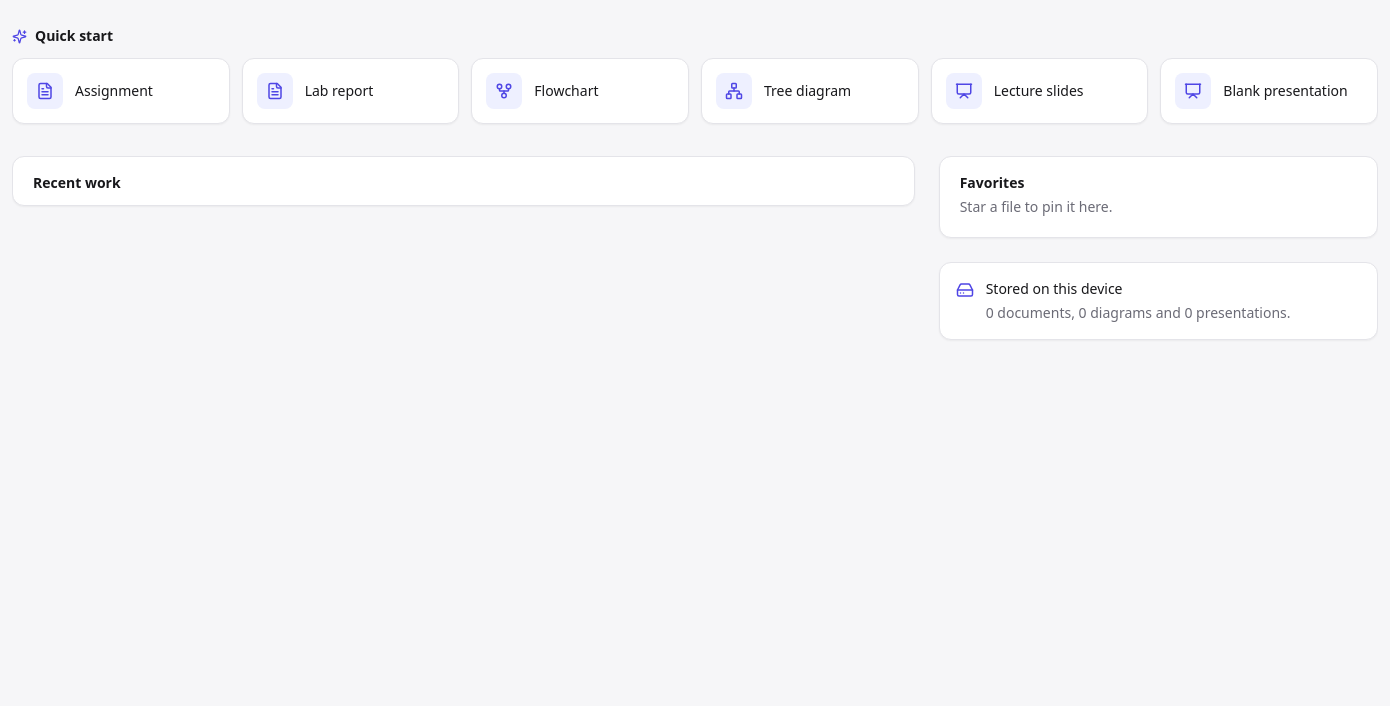
Test: Dashboard with presentations › the quick start entry creates a presentation
Click the button "Blank presentation".
click(1269, 91)  # box [1160,58,1378,124]
(page scrolled)
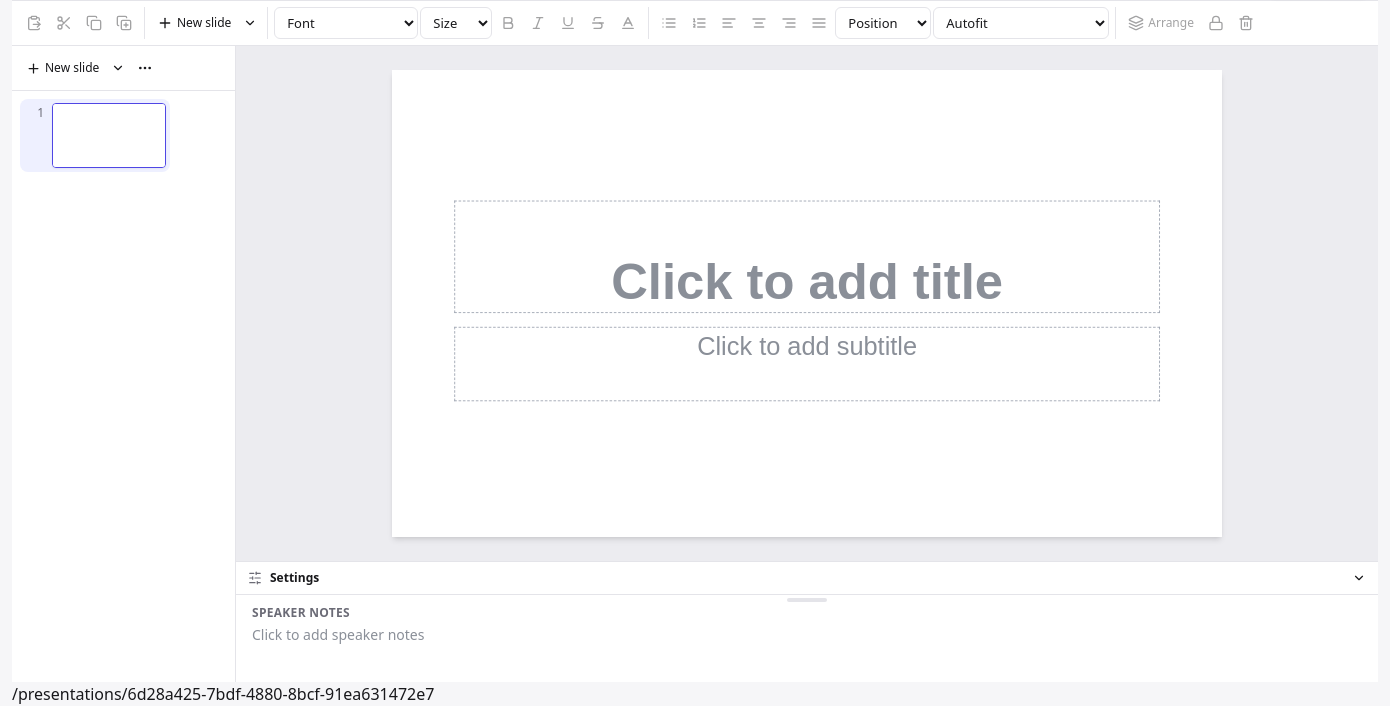
Now the text with test id "at" shows "/presentations/", box [12,683,434,705]
